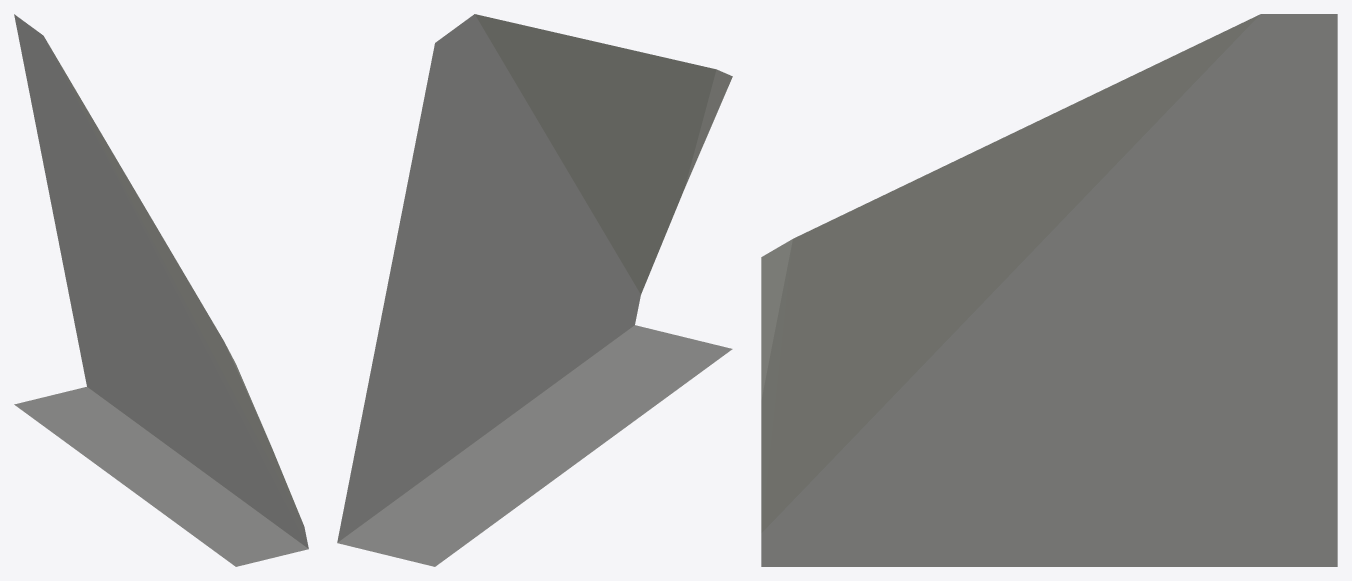
3 views of the same model, side by side, from view 1: azimuth 30°, elevation 25°; view 2: azimuth 150°, elevation 25°; view 3: azimuth 270°, elevation 25° (orthographic). The views are drawn at different scales.
Size of the model in its own units: 0.1866 by 0.9541 by 0.983.
Materials: 1 (1 with a texture image).
